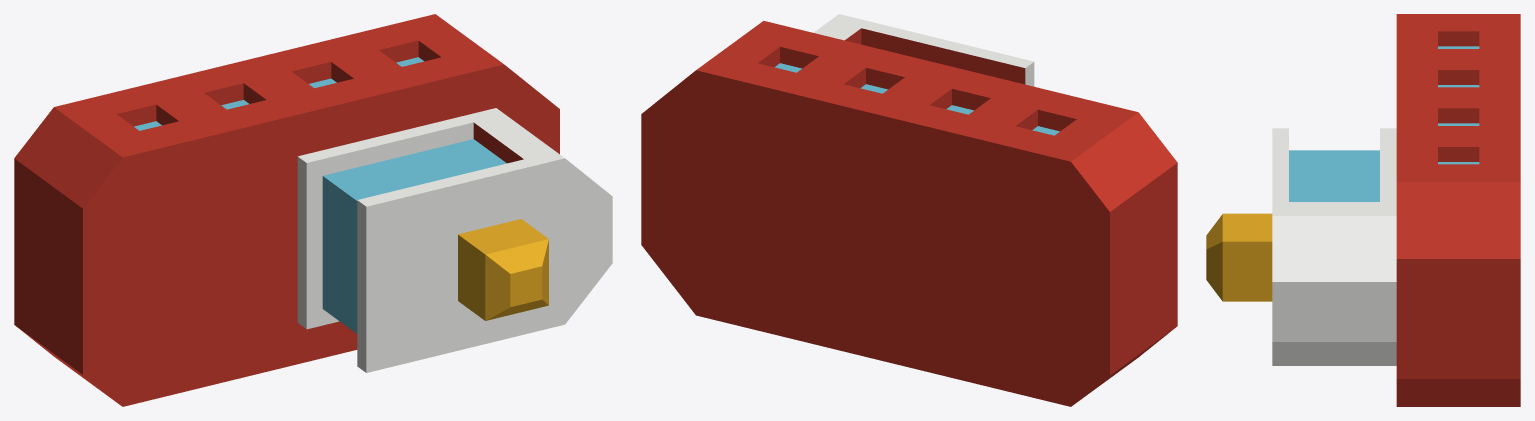
The model's file is Ship For Unity.fbx.
The picture shows the model from 3 angles, left to right: view 1: azimuth 30°, elevation 25°; view 2: azimuth 150°, elevation 25°; view 3: azimuth 270°, elevation 25°; orthographic projection. The views are drawn at different scales.
Parts seen in each view (by area): view 1: Body1; view 2: Body1; view 3: Body1.
Part boxes in pixels (x1,y1,x2,y2): Body1: (14,14,612,406); Body1: (641,14,1177,406); Body1: (1206,14,1520,406).
Size of the model in its own units: 60 by 30 by 38.
